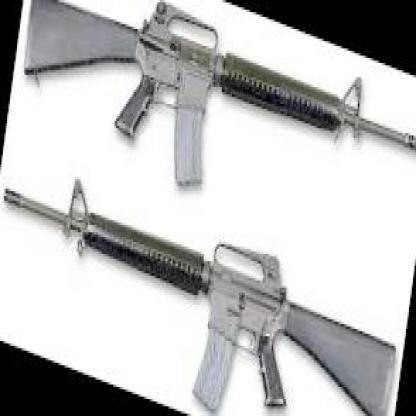rifle: (0, 142, 407, 416), (14, 0, 416, 268)
